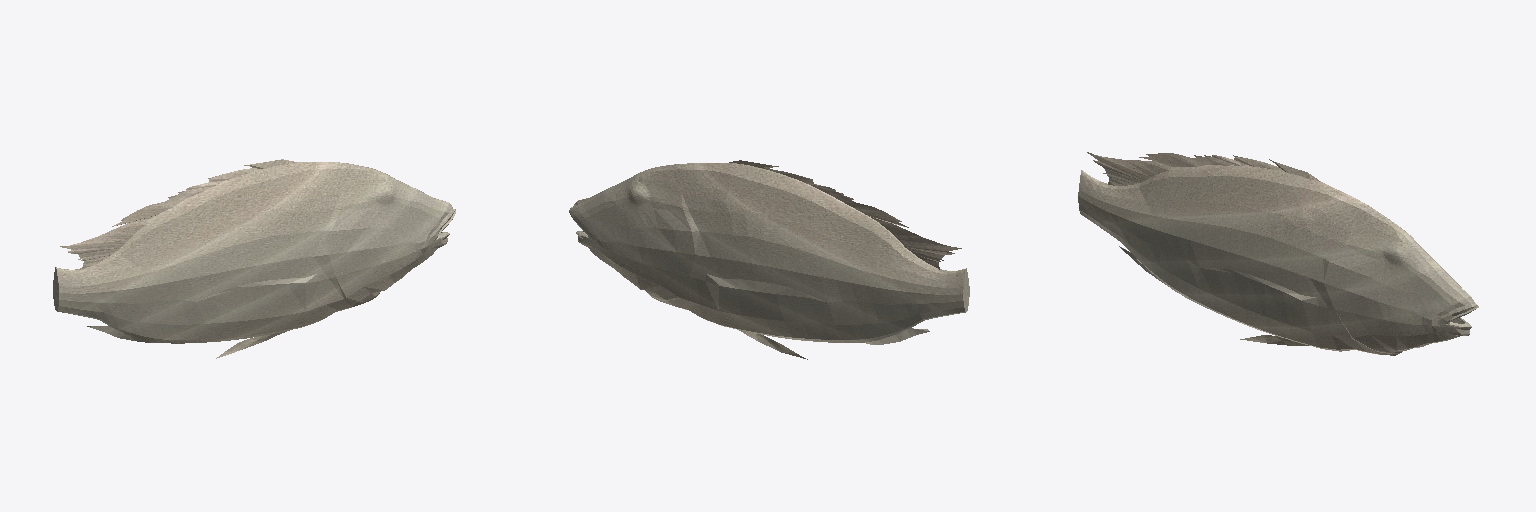
3 renders of one model, left to right at view 1: azimuth 30°, elevation 25°; view 2: azimuth 150°, elevation 25°; view 3: azimuth 330°, elevation 25°, orthographic.
Parts seen in each view (by area): view 1: Line01_02_-_Default_0.001; view 2: Line01_02_-_Default_0.001; view 3: Line01_02_-_Default_0.001.
Boxes of the visible parts, box(x1,y1,x2,y2) form: Line01_02_-_Default_0.001: box(53, 159, 455, 358); Line01_02_-_Default_0.001: box(569, 160, 969, 359); Line01_02_-_Default_0.001: box(1078, 152, 1478, 355).
Bounding box in the file's own units: 9.79 × 4.4 × 1.23.
1 materials, 1 textured.